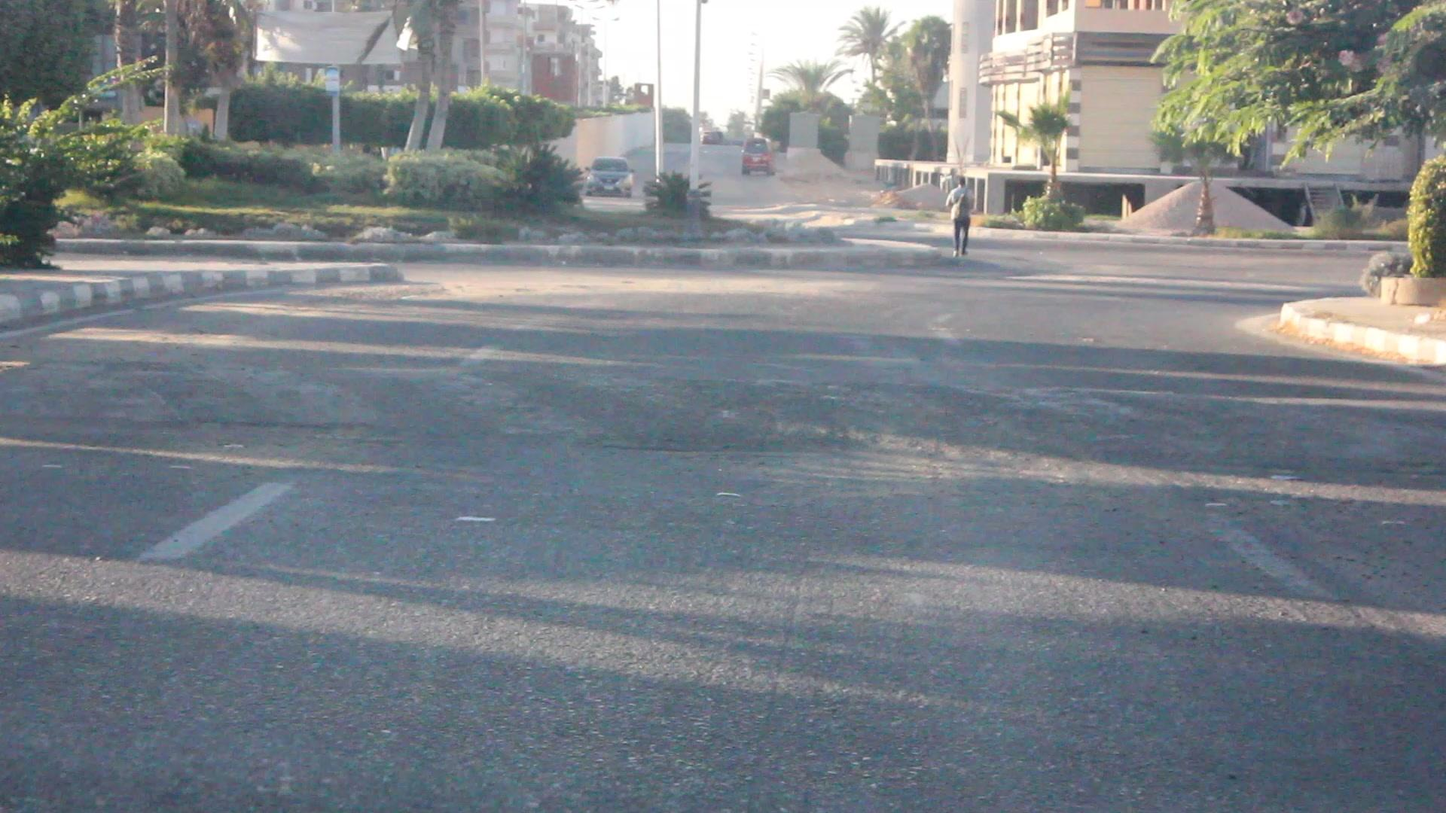Bump: (40, 341, 1446, 486)
